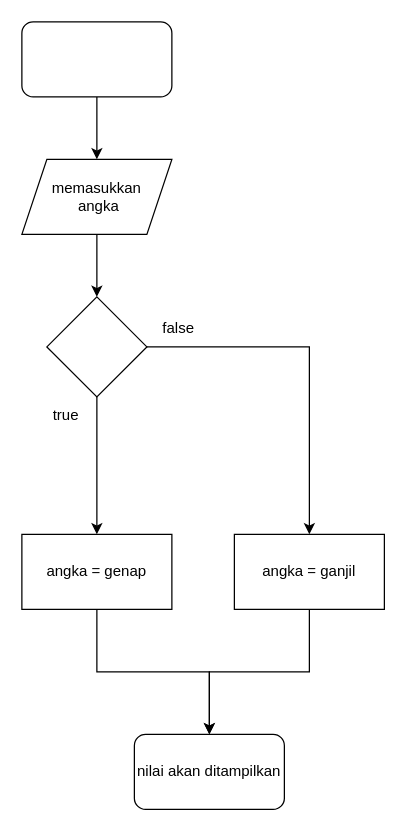
Image size: 406x831. Some labels were removed from this diagram. Here are the shapes that lost their labels. From the top down, the centre of each, then its label:
the point at 96,59: membuka halaman web
the point at 96,346: angka % 2 == 0
